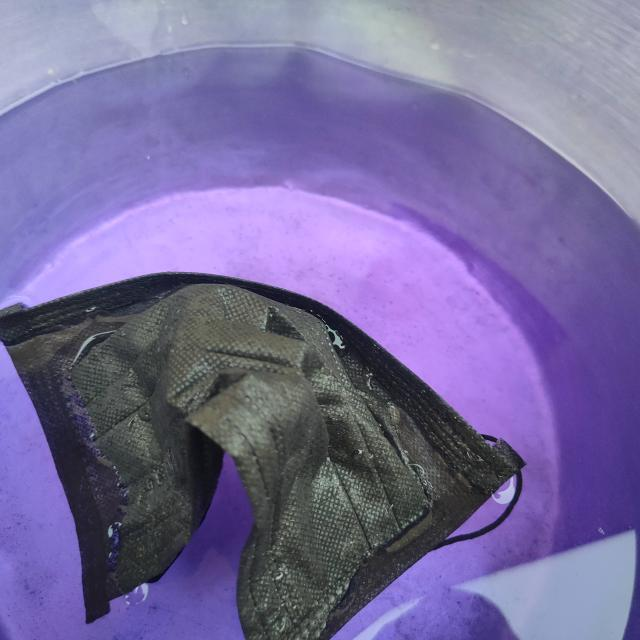mask: (0, 224, 546, 639)
